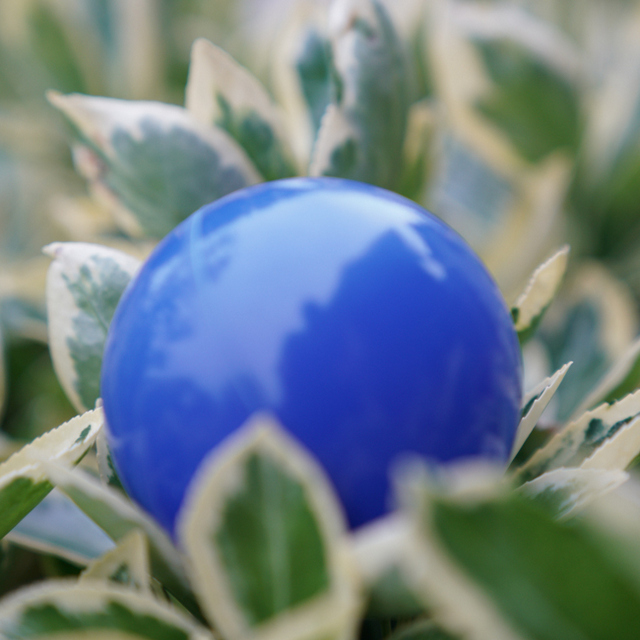Ball: (98, 178, 521, 535)
